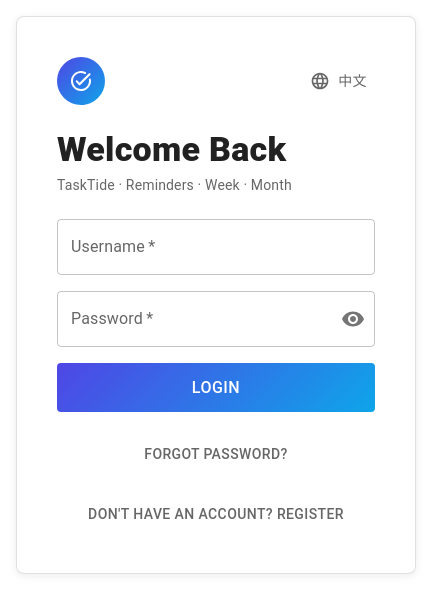
LoginPage behavior › switches the login screen copy to Chinese from the language button
Expected: the heading "Welcome Back" is shown, [57,129,286,169]
Click the button "中文": (341, 81) [306,63,375,99]
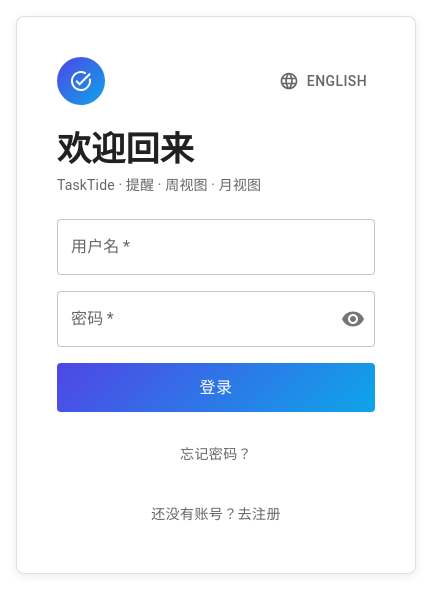
Expected: the heading "欢迎回来" is shown, [57,129,194,169]
Expected: the text "用户名" is shown, [71,237,120,256]
Expected: the button "登录" is shown, [57,363,375,412]
